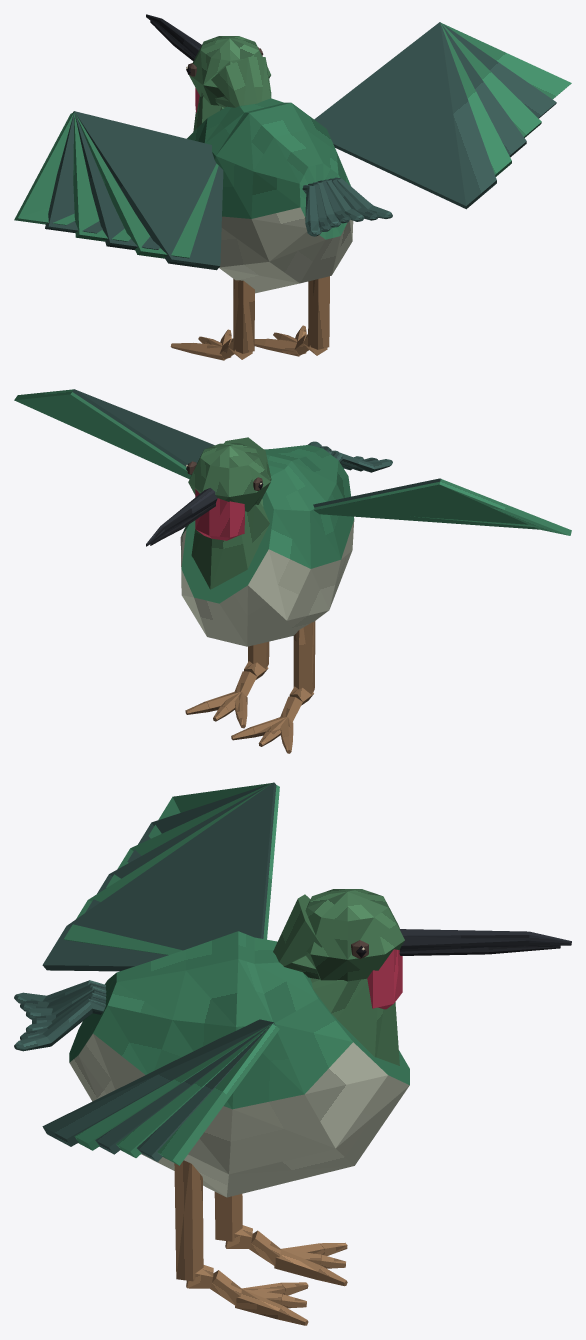
File: mon_hummingbird.glb
3 views of the same model, one above another, from view 1: azimuth 30°, elevation 25°; view 2: azimuth 150°, elevation 25°; view 3: azimuth 270°, elevation 25° (orthographic). The views are drawn at different scales.
Parts seen in each view (by area): view 1: closed_body; view 2: closed_body; view 3: closed_body.
Boxes of the visible parts, x1,y1,x2,y2 form: closed_body: (14, 14, 571, 360); closed_body: (14, 389, 571, 753); closed_body: (14, 782, 571, 1325).
Size of the model in its own units: 0.0843 by 0.0428 by 0.0544.
1 material, 1 textured.
